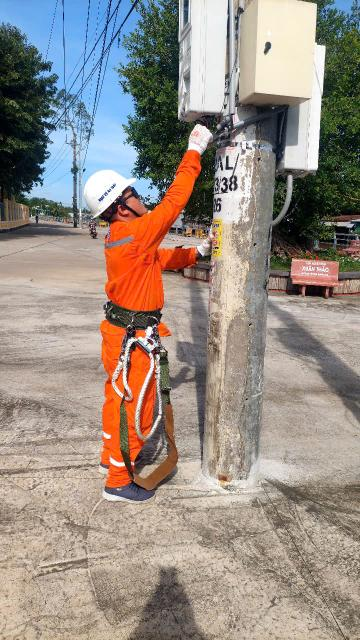gloves: (180, 119, 223, 160)
harness: (94, 292, 170, 334)
helmet: (77, 168, 143, 223)
shoes: (103, 476, 161, 505)
